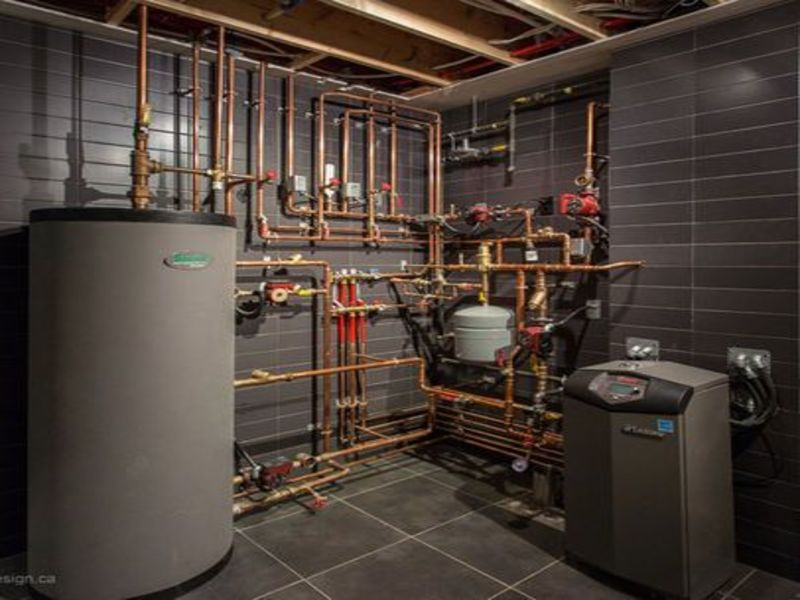valve: (133, 95, 159, 139), (527, 348, 553, 384), (489, 350, 520, 374), (508, 90, 547, 109), (476, 284, 501, 312), (290, 282, 324, 302), (487, 137, 514, 156)
